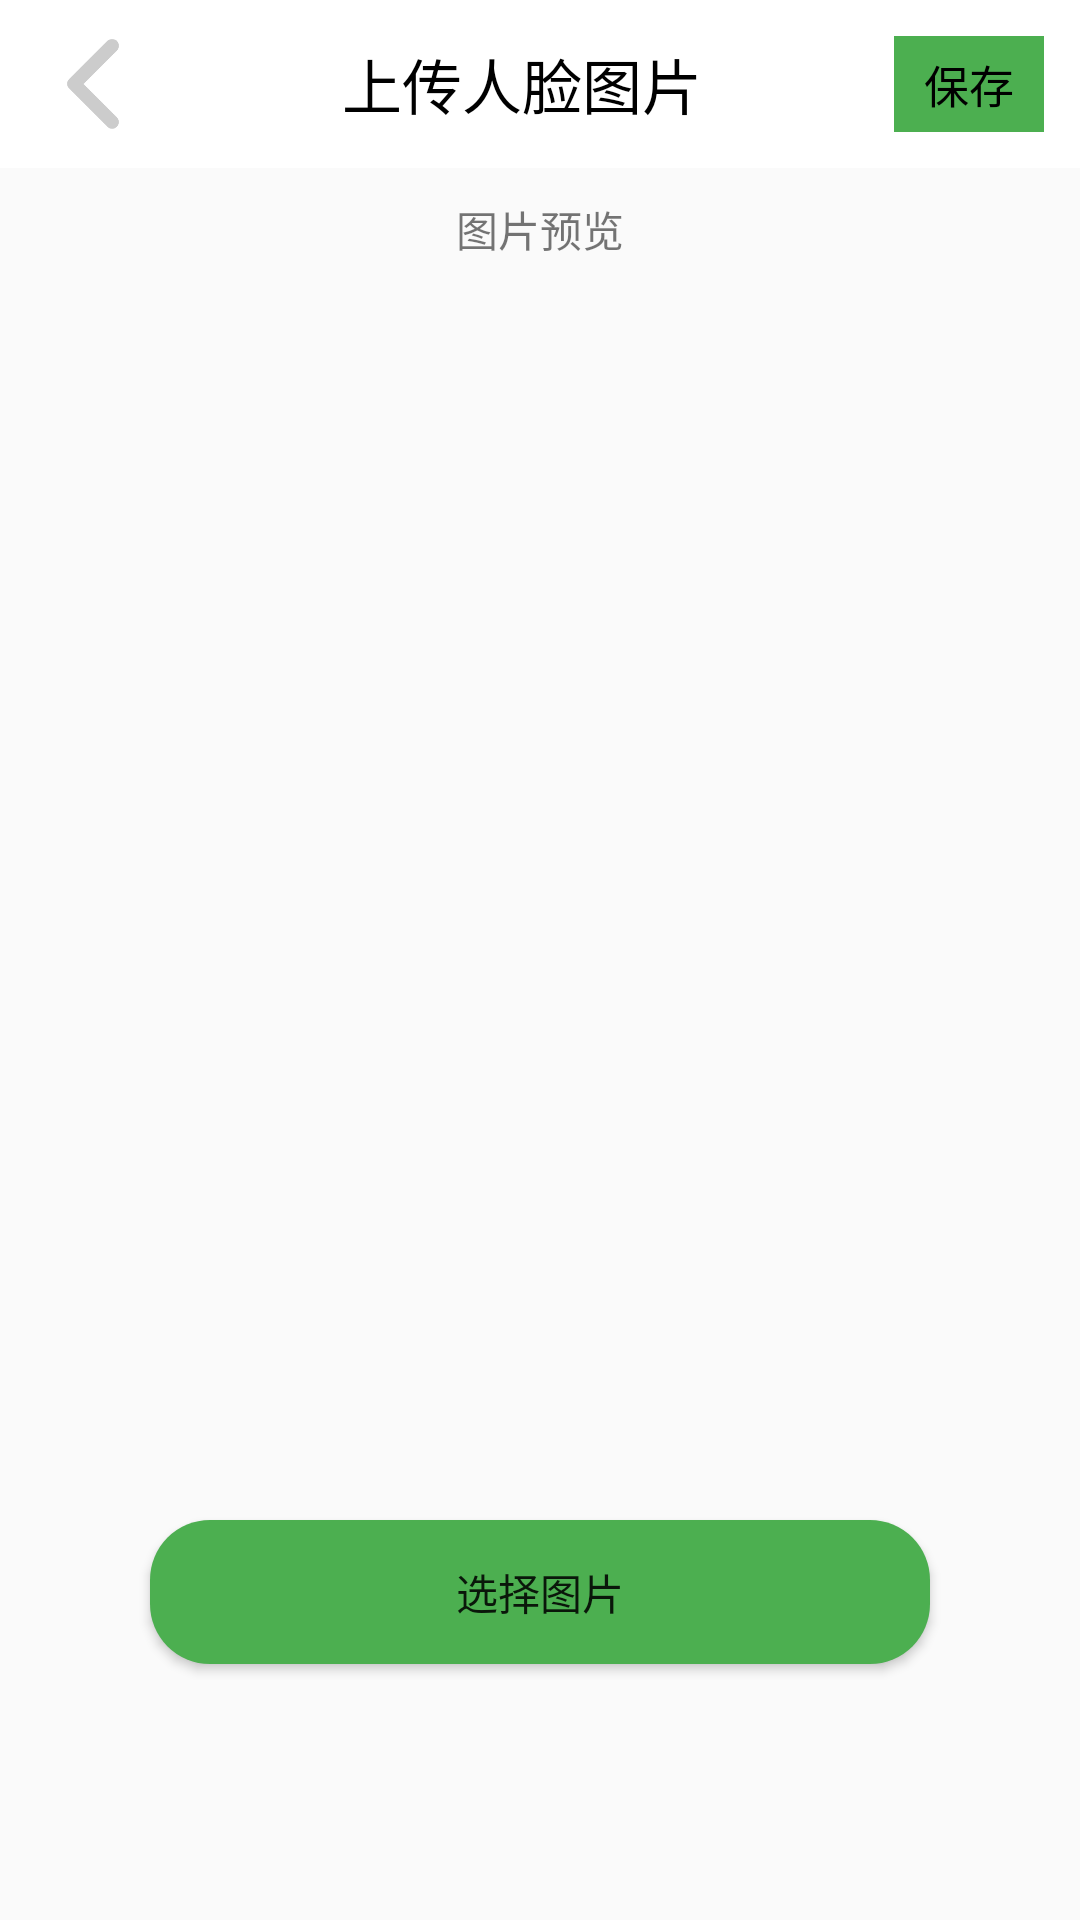

Screen size 1080px x 1920px. Icon name, then its box in pixels as (x1=x1, y1=y1, x2=x2, y2=y2):
arrow left: (x1=67, y1=39, x2=119, y2=129)
